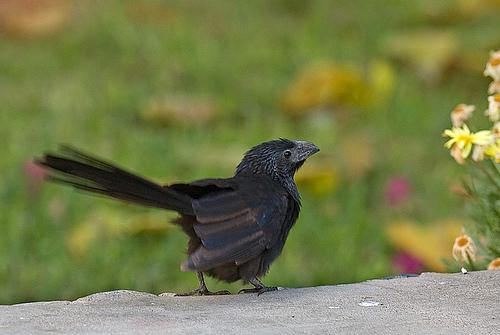004.Groove_billed_Ani: (35, 137, 323, 297)
